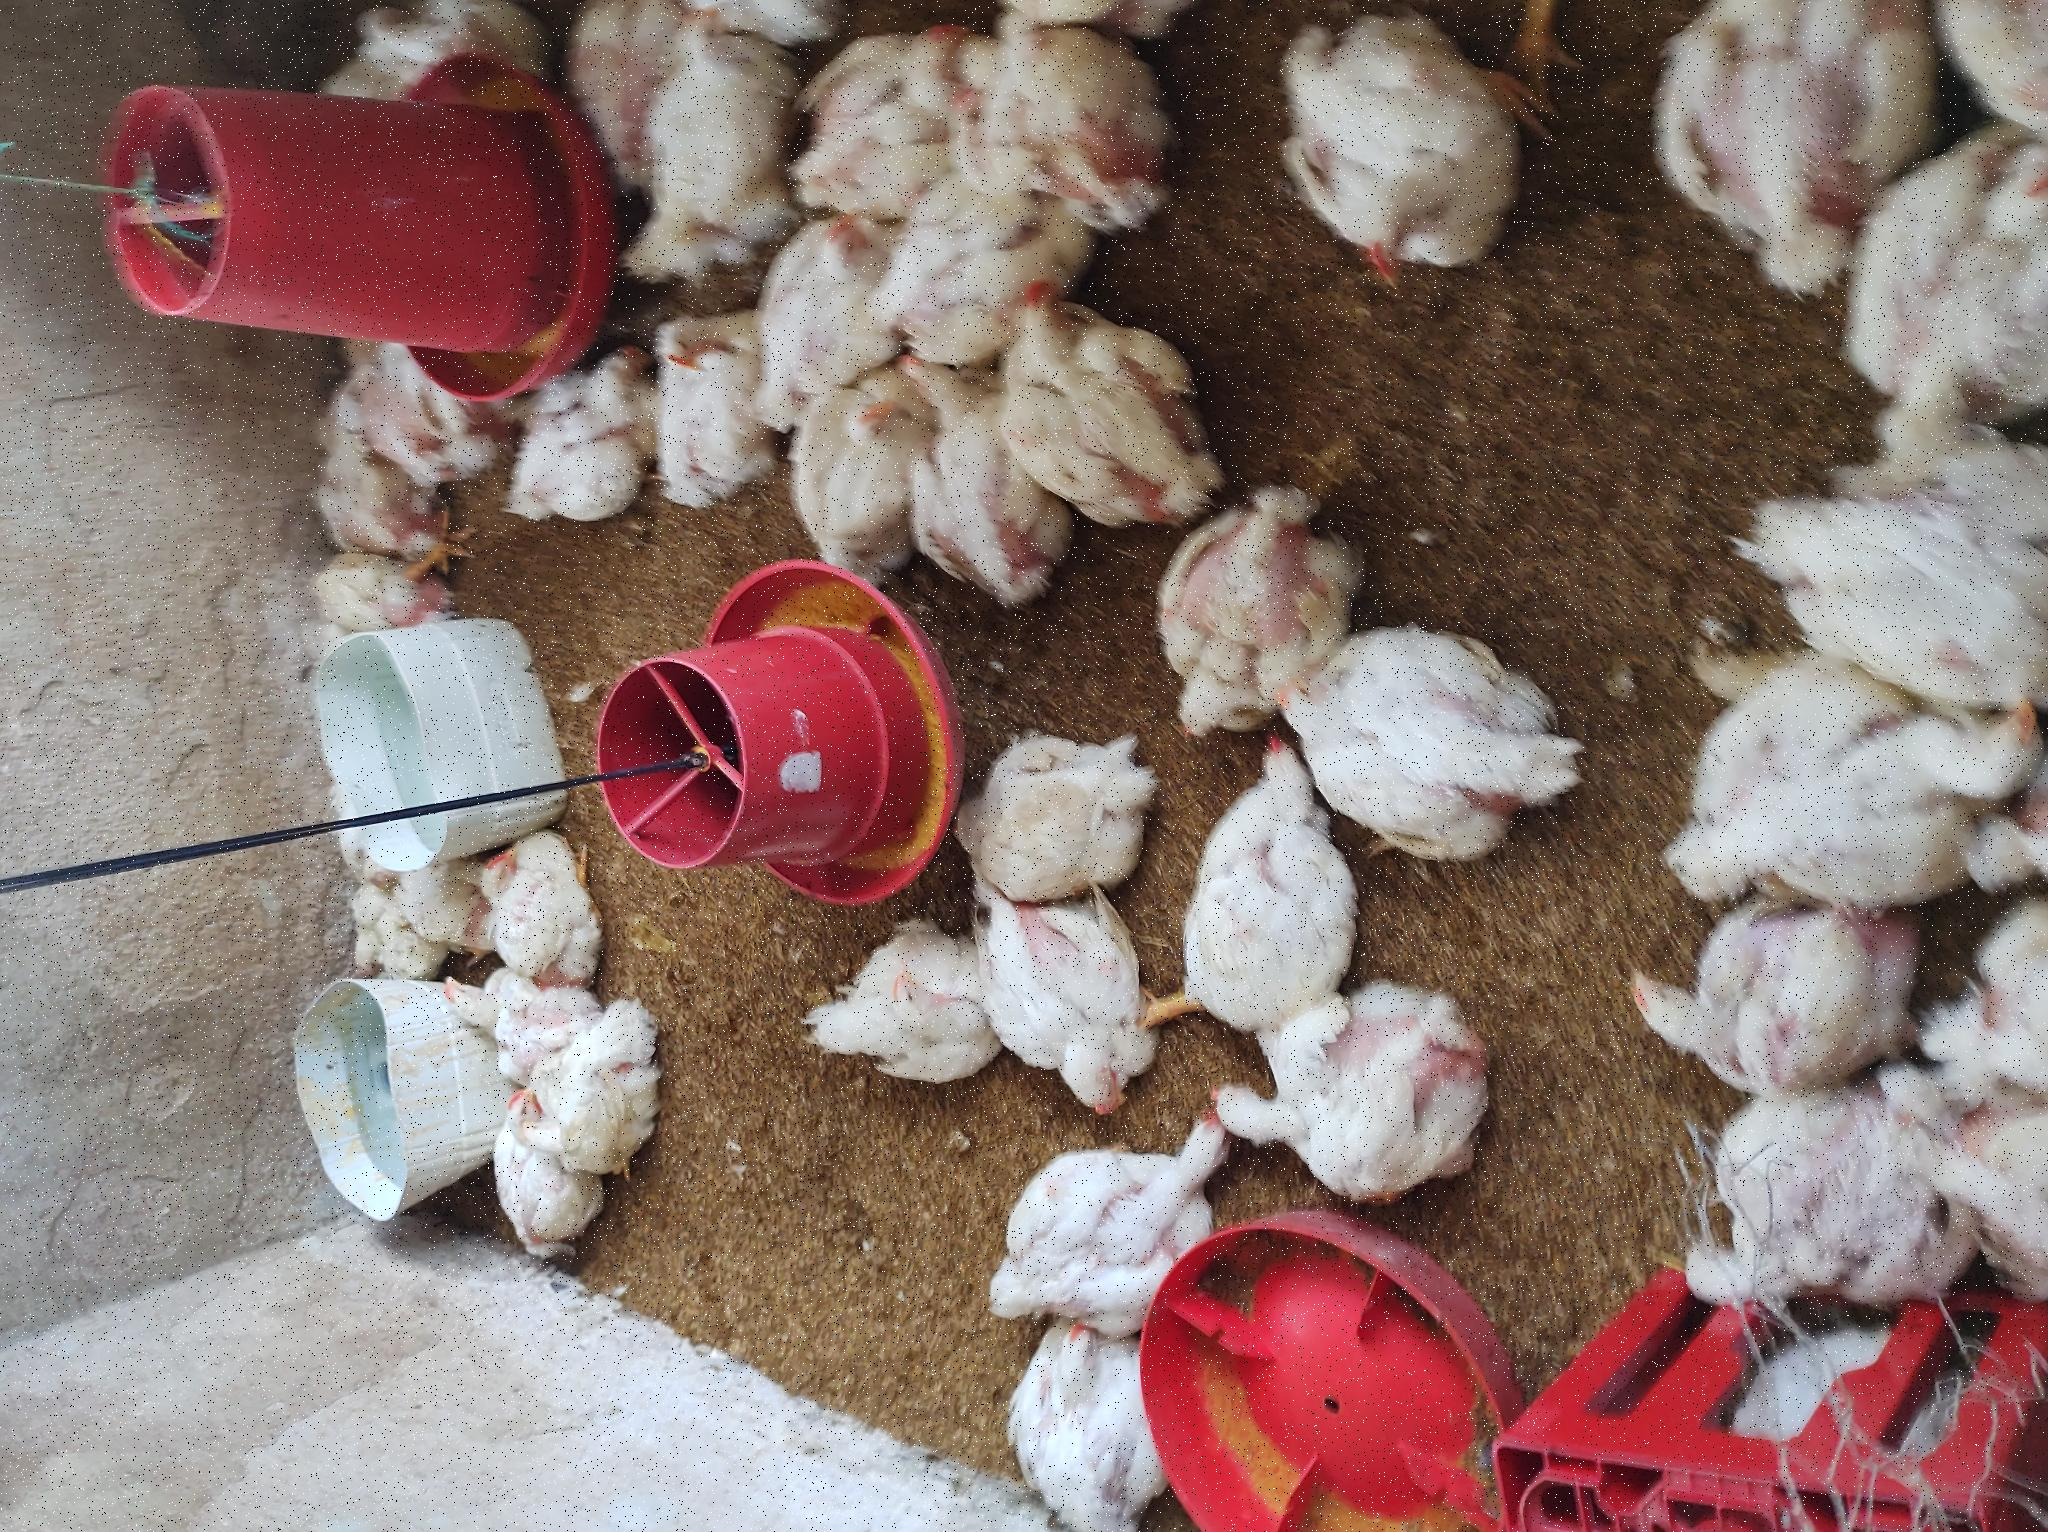Pollos: (1231, 1270, 1520, 1532), (674, 1278, 919, 1532), (327, 1205, 542, 1477), (208, 978, 430, 1229), (790, 1149, 1051, 1355), (1020, 1007, 1266, 1218), (505, 1188, 795, 1357), (417, 975, 627, 1168), (1269, 644, 1519, 801), (1302, 990, 1520, 1168), (10, 1007, 224, 1168), (433, 793, 613, 982), (639, 957, 804, 1151), (1005, 502, 1179, 657), (380, 517, 534, 673), (1039, 636, 1221, 764), (544, 478, 721, 605), (1141, 774, 1324, 887), (977, 278, 1081, 472), (988, 903, 1187, 980), (894, 294, 977, 463), (475, 418, 574, 542), (1398, 866, 1533, 953), (549, 317, 645, 417), (291, 488, 444, 550), (1046, 817, 1144, 906), (1334, 935, 1453, 1006)
